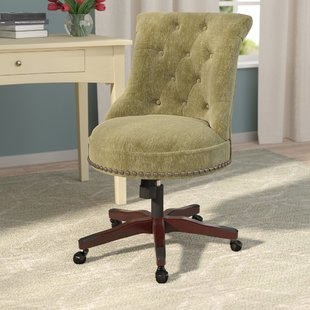chairs: (73, 10, 254, 287)
